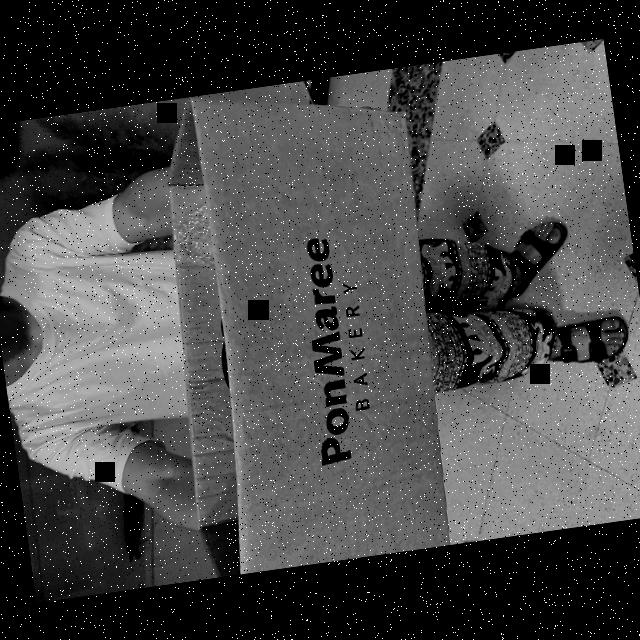cardboard_box: (137, 66, 470, 579)
